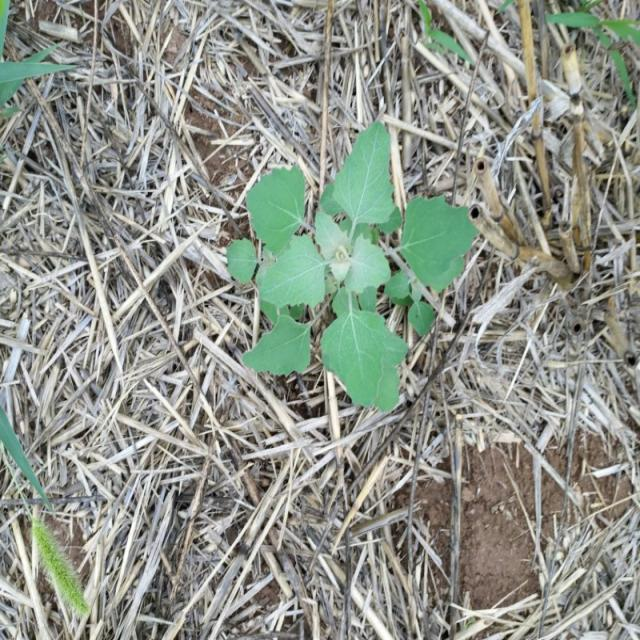goosefoots: (209, 131, 475, 411)
